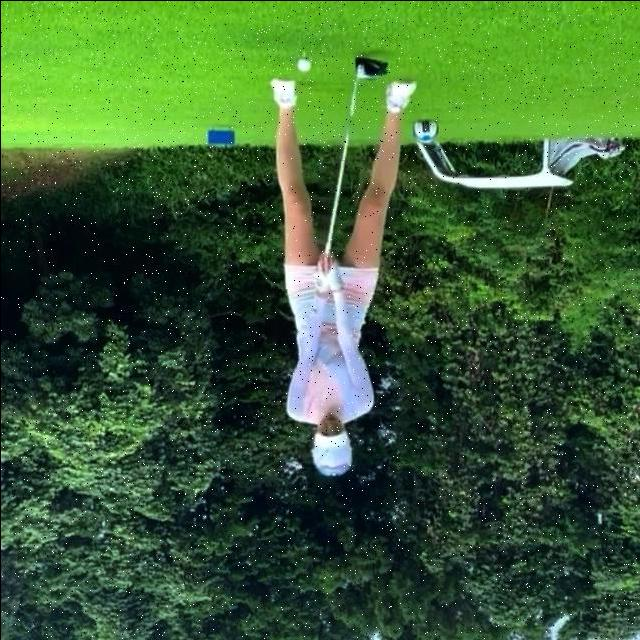golf ball: (296, 57, 310, 72)
golf club-handle: (321, 53, 391, 264)
golf club-head: (352, 55, 389, 79)
